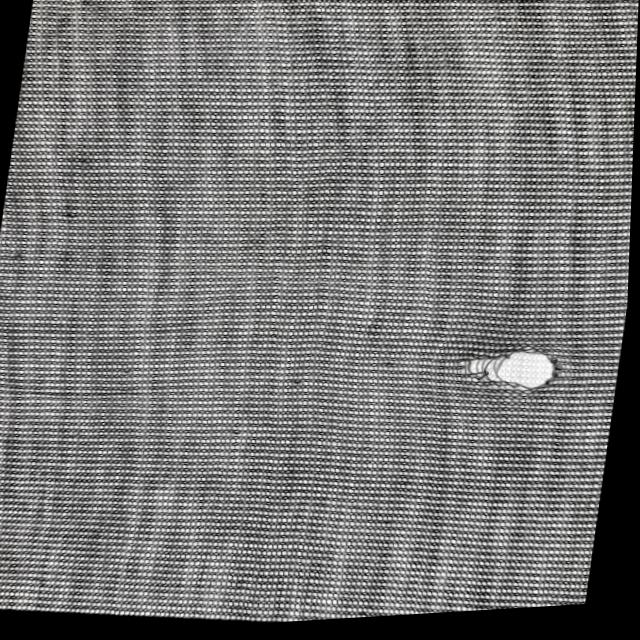Hole: (445, 333, 577, 418)
